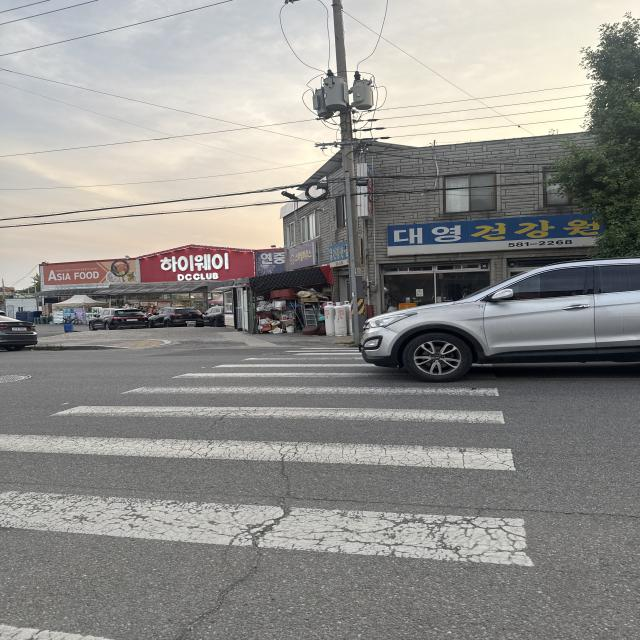car: (366, 261, 634, 384), (0, 315, 55, 359)
